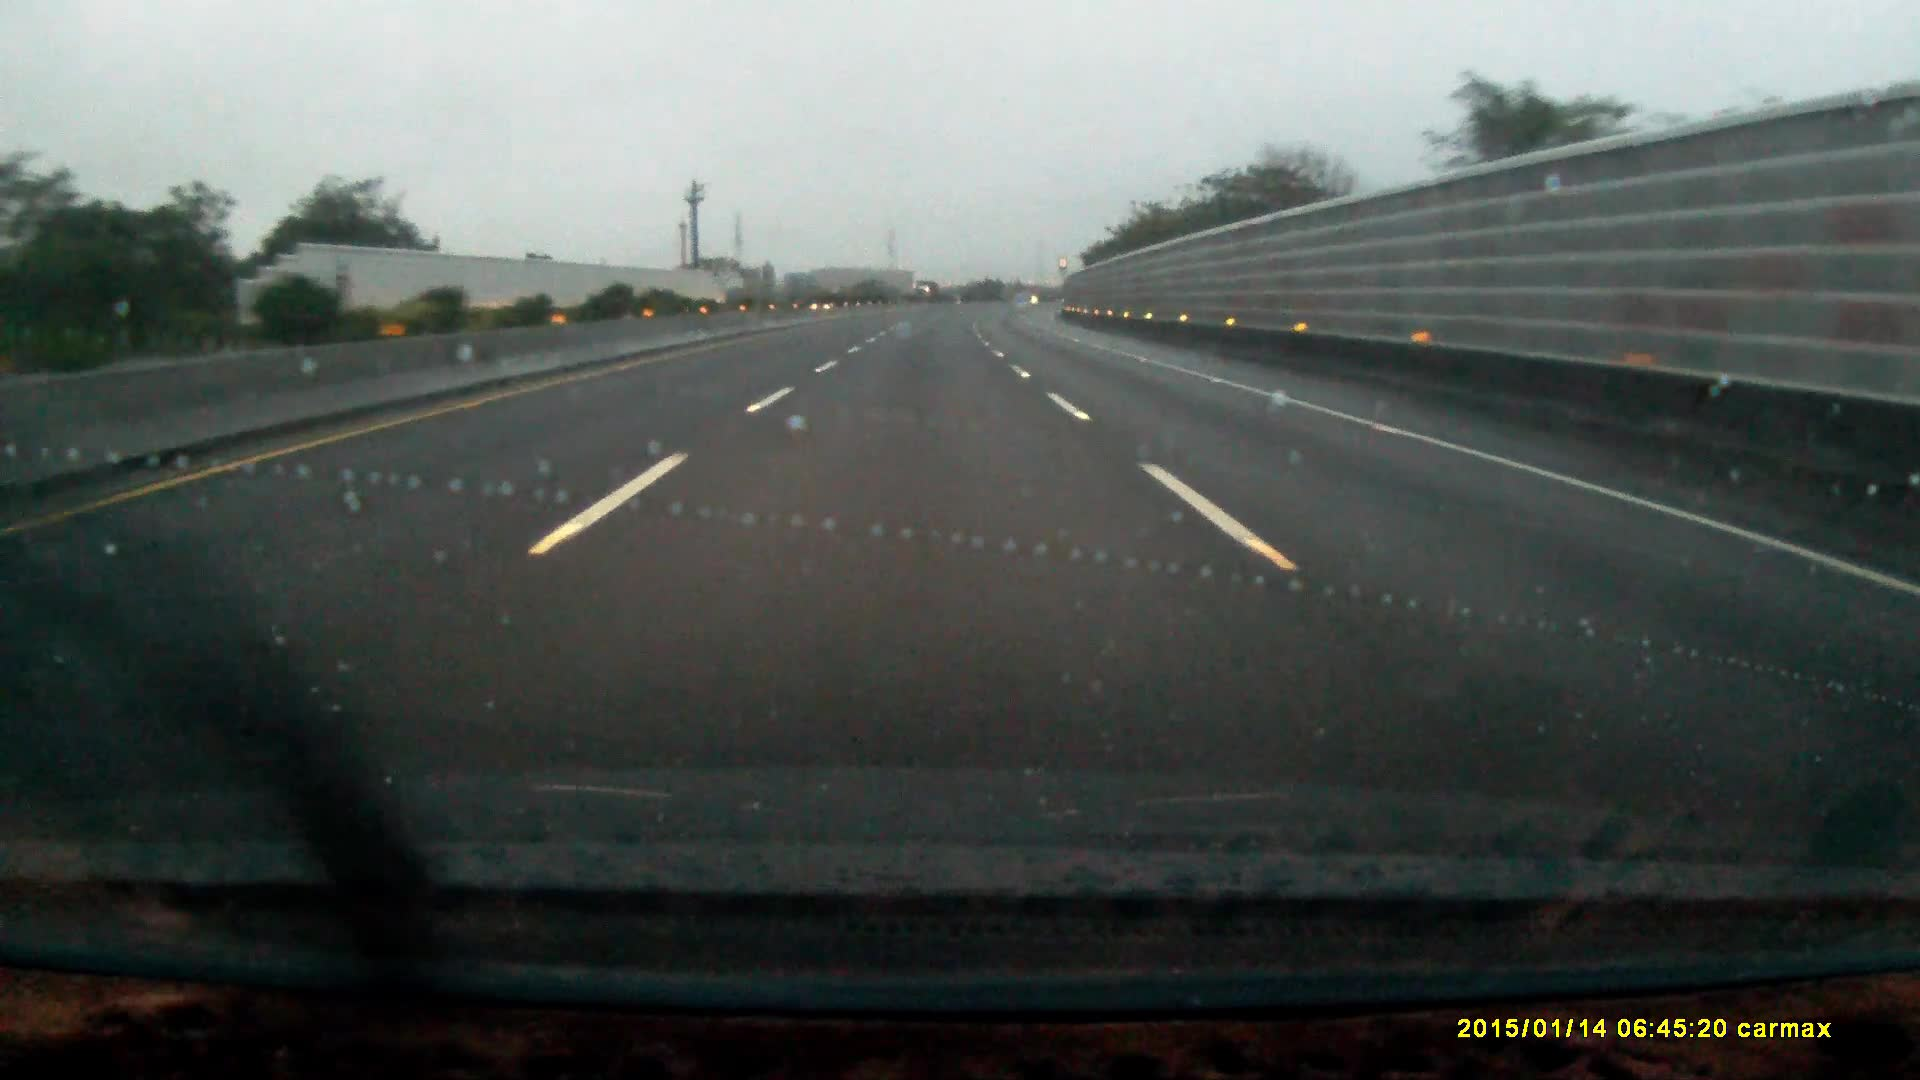vehicle: (913, 280, 939, 301)
